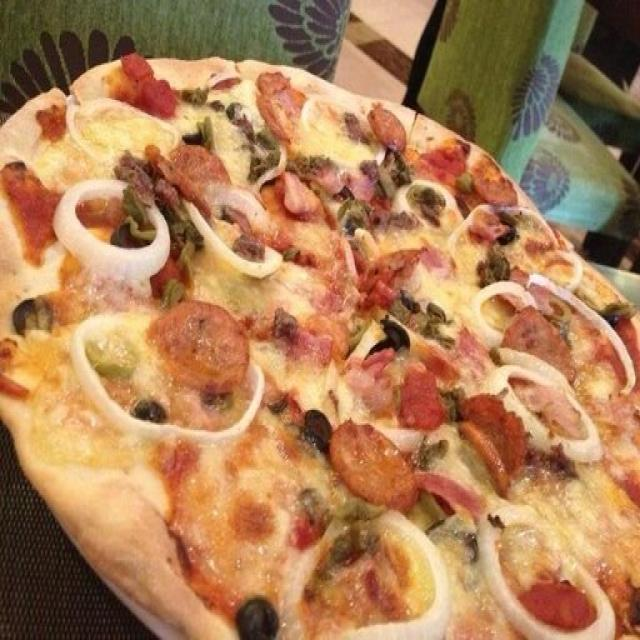Ham: (115, 150, 176, 202), (399, 367, 440, 431), (525, 379, 576, 426), (297, 319, 340, 372), (399, 180, 449, 224), (420, 468, 475, 507), (275, 176, 323, 217), (453, 326, 493, 371), (346, 348, 392, 385), (348, 173, 373, 203), (414, 248, 446, 268), (321, 173, 347, 192)
Olives: (508, 306, 575, 356), (235, 585, 282, 640), (8, 301, 55, 331), (368, 319, 411, 347), (306, 408, 332, 439), (137, 400, 162, 423)
Onions: (65, 311, 270, 443), (284, 515, 436, 640), (484, 504, 610, 639), (493, 360, 599, 470), (56, 180, 159, 280), (474, 275, 526, 347), (540, 247, 586, 296), (604, 301, 618, 326)
Pepperoni: (333, 420, 420, 520), (150, 302, 240, 386), (160, 130, 238, 216), (458, 390, 522, 480), (354, 246, 417, 310), (254, 76, 303, 136), (470, 173, 518, 203), (473, 217, 512, 252), (366, 110, 402, 147)
Pizza: (0, 55, 640, 638)
